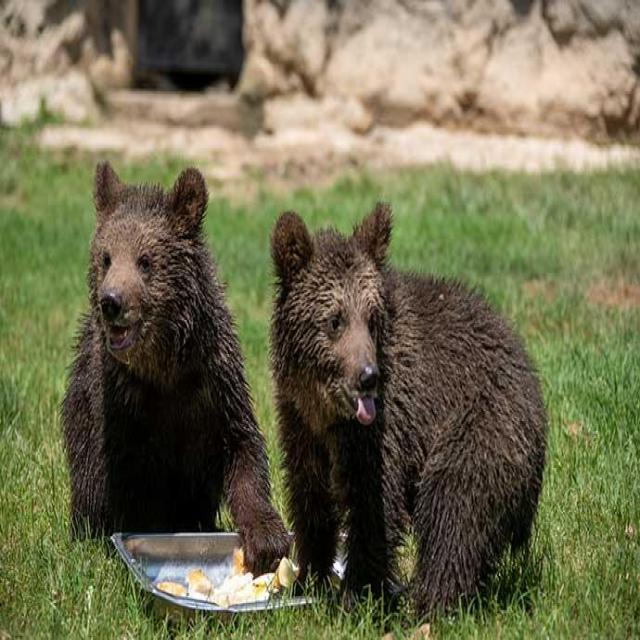Bear: (270, 202, 547, 620), (60, 162, 292, 577)
